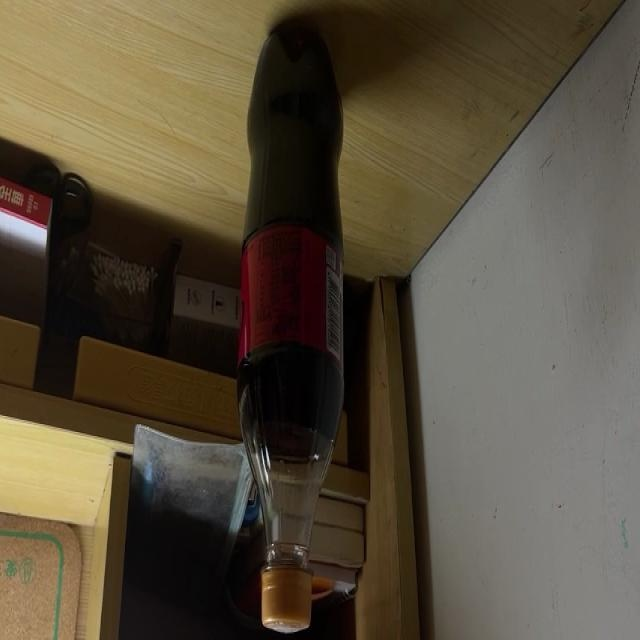Coca-Cola: (238, 30, 348, 632)
